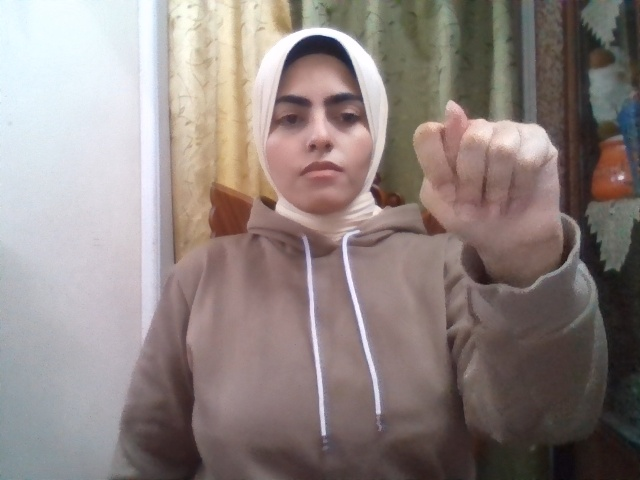T: (411, 100, 560, 250)
